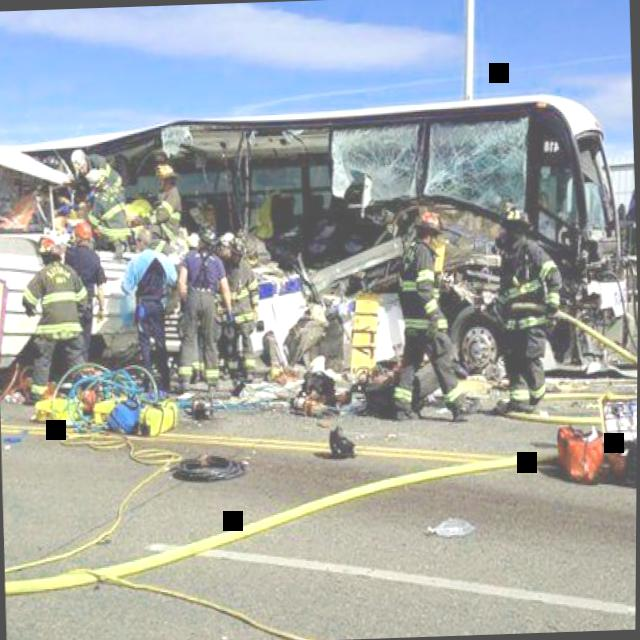Fall-Detected: (548, 397, 638, 505)
